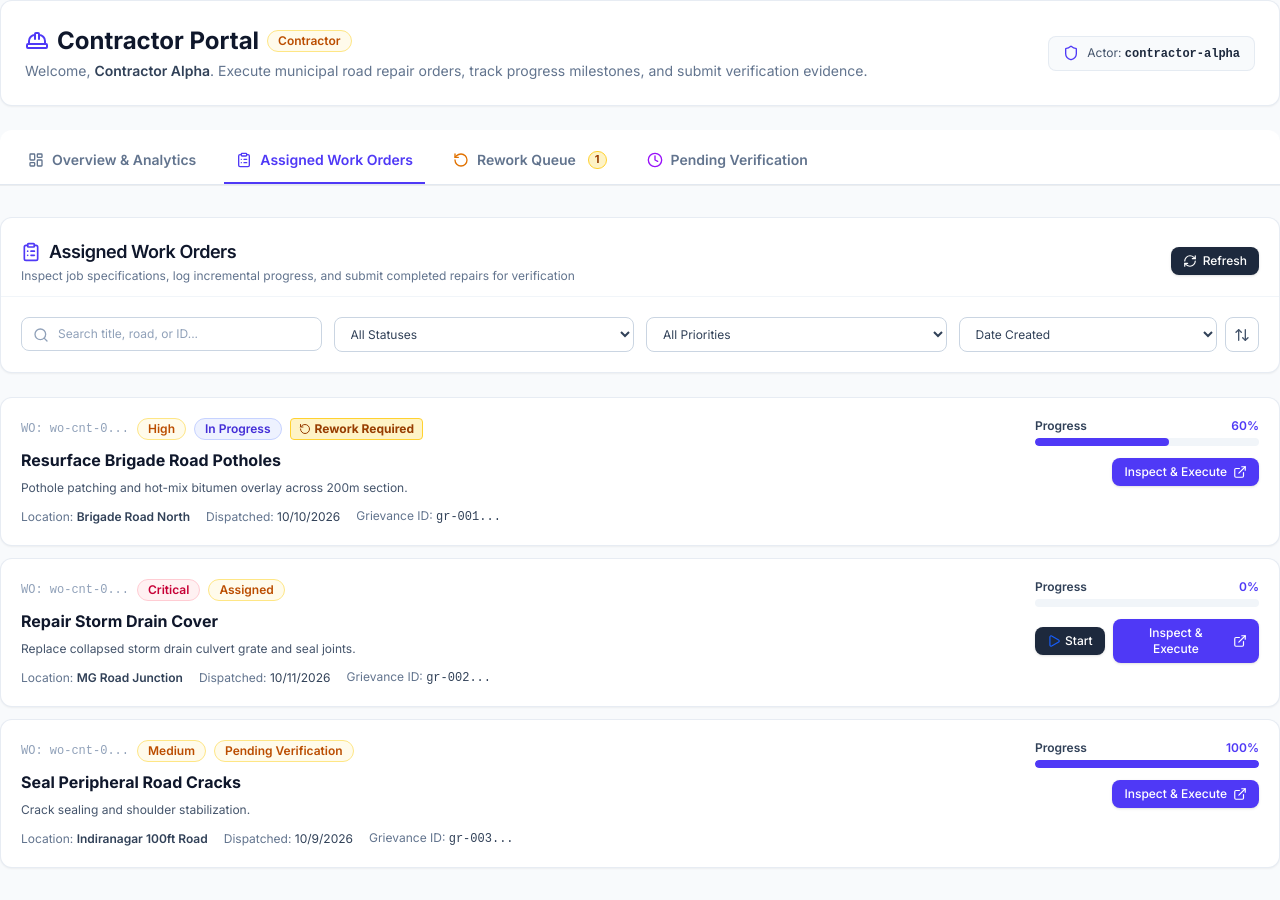
it: Contractor Dashboard Integration Tests (Phase 26) › 7. opens work order details modal and displays road, grievance, rework feedback, and evidence
Open detail modal
Click the button with test id "inspect-wo-btn-wo-cnt-001" at [1186, 472], box [1112,458,1259,486]
(page scrolled)
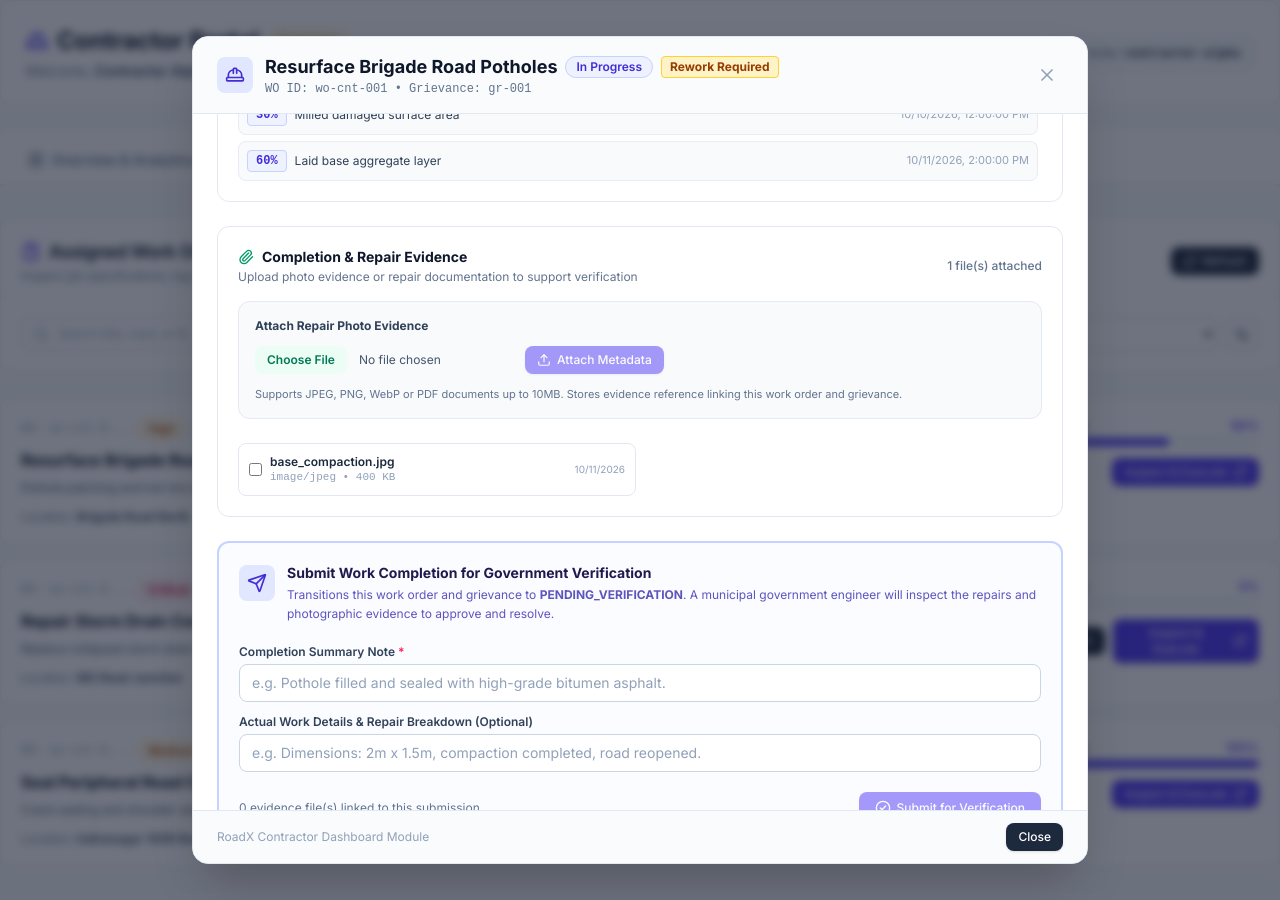
Check: the element with test id "contractor-work-order-detail-modal" is shown
Check: the text "base_compaction.jpg" is shown, box [270,454,395,470]
